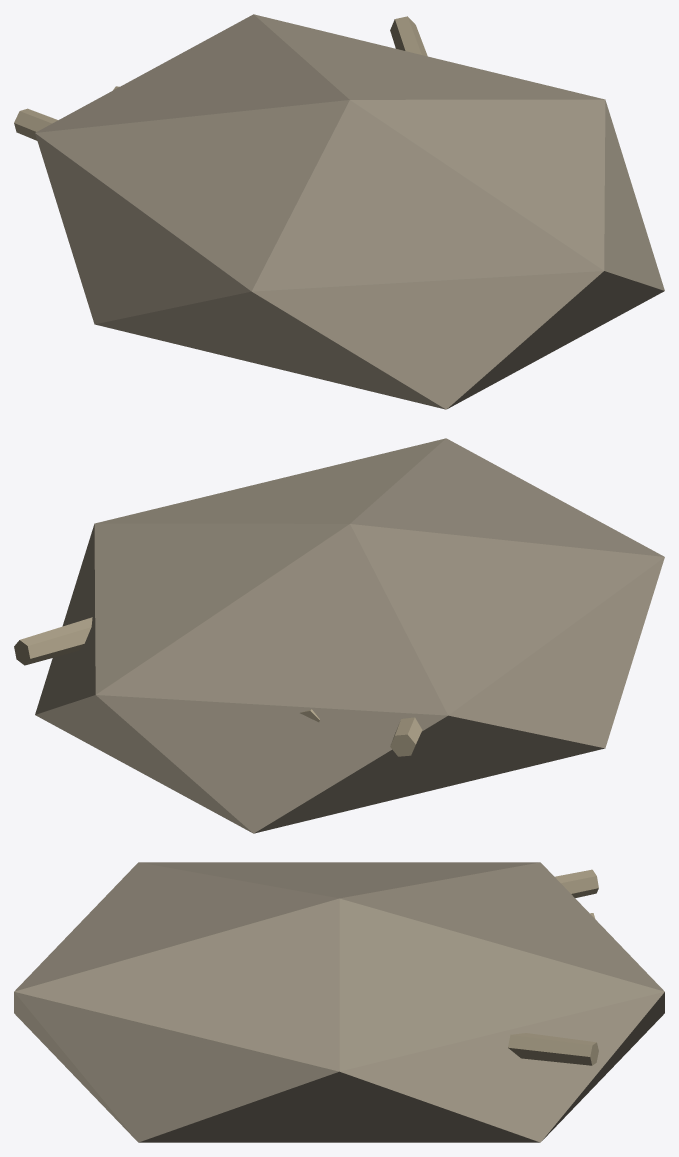
Rendered from coast-shell.glb.
The picture shows the model from 3 angles, top to bottom: view 1: azimuth 30°, elevation 25°; view 2: azimuth 150°, elevation 25°; view 3: azimuth 270°, elevation 25°; orthographic projection. The views are drawn at different scales.
Parts seen in each view (by area): view 1: coast-shell; view 2: coast-shell; view 3: coast-shell.
Boxes of the visible parts, left/top/right/bottom form: coast-shell: left=14, top=14, right=664, bottom=409; coast-shell: left=14, top=438, right=664, bottom=833; coast-shell: left=14, top=862, right=664, bottom=1142.
Bounding box in the file's own units: 0.2147 × 0.09 × 0.2552.
